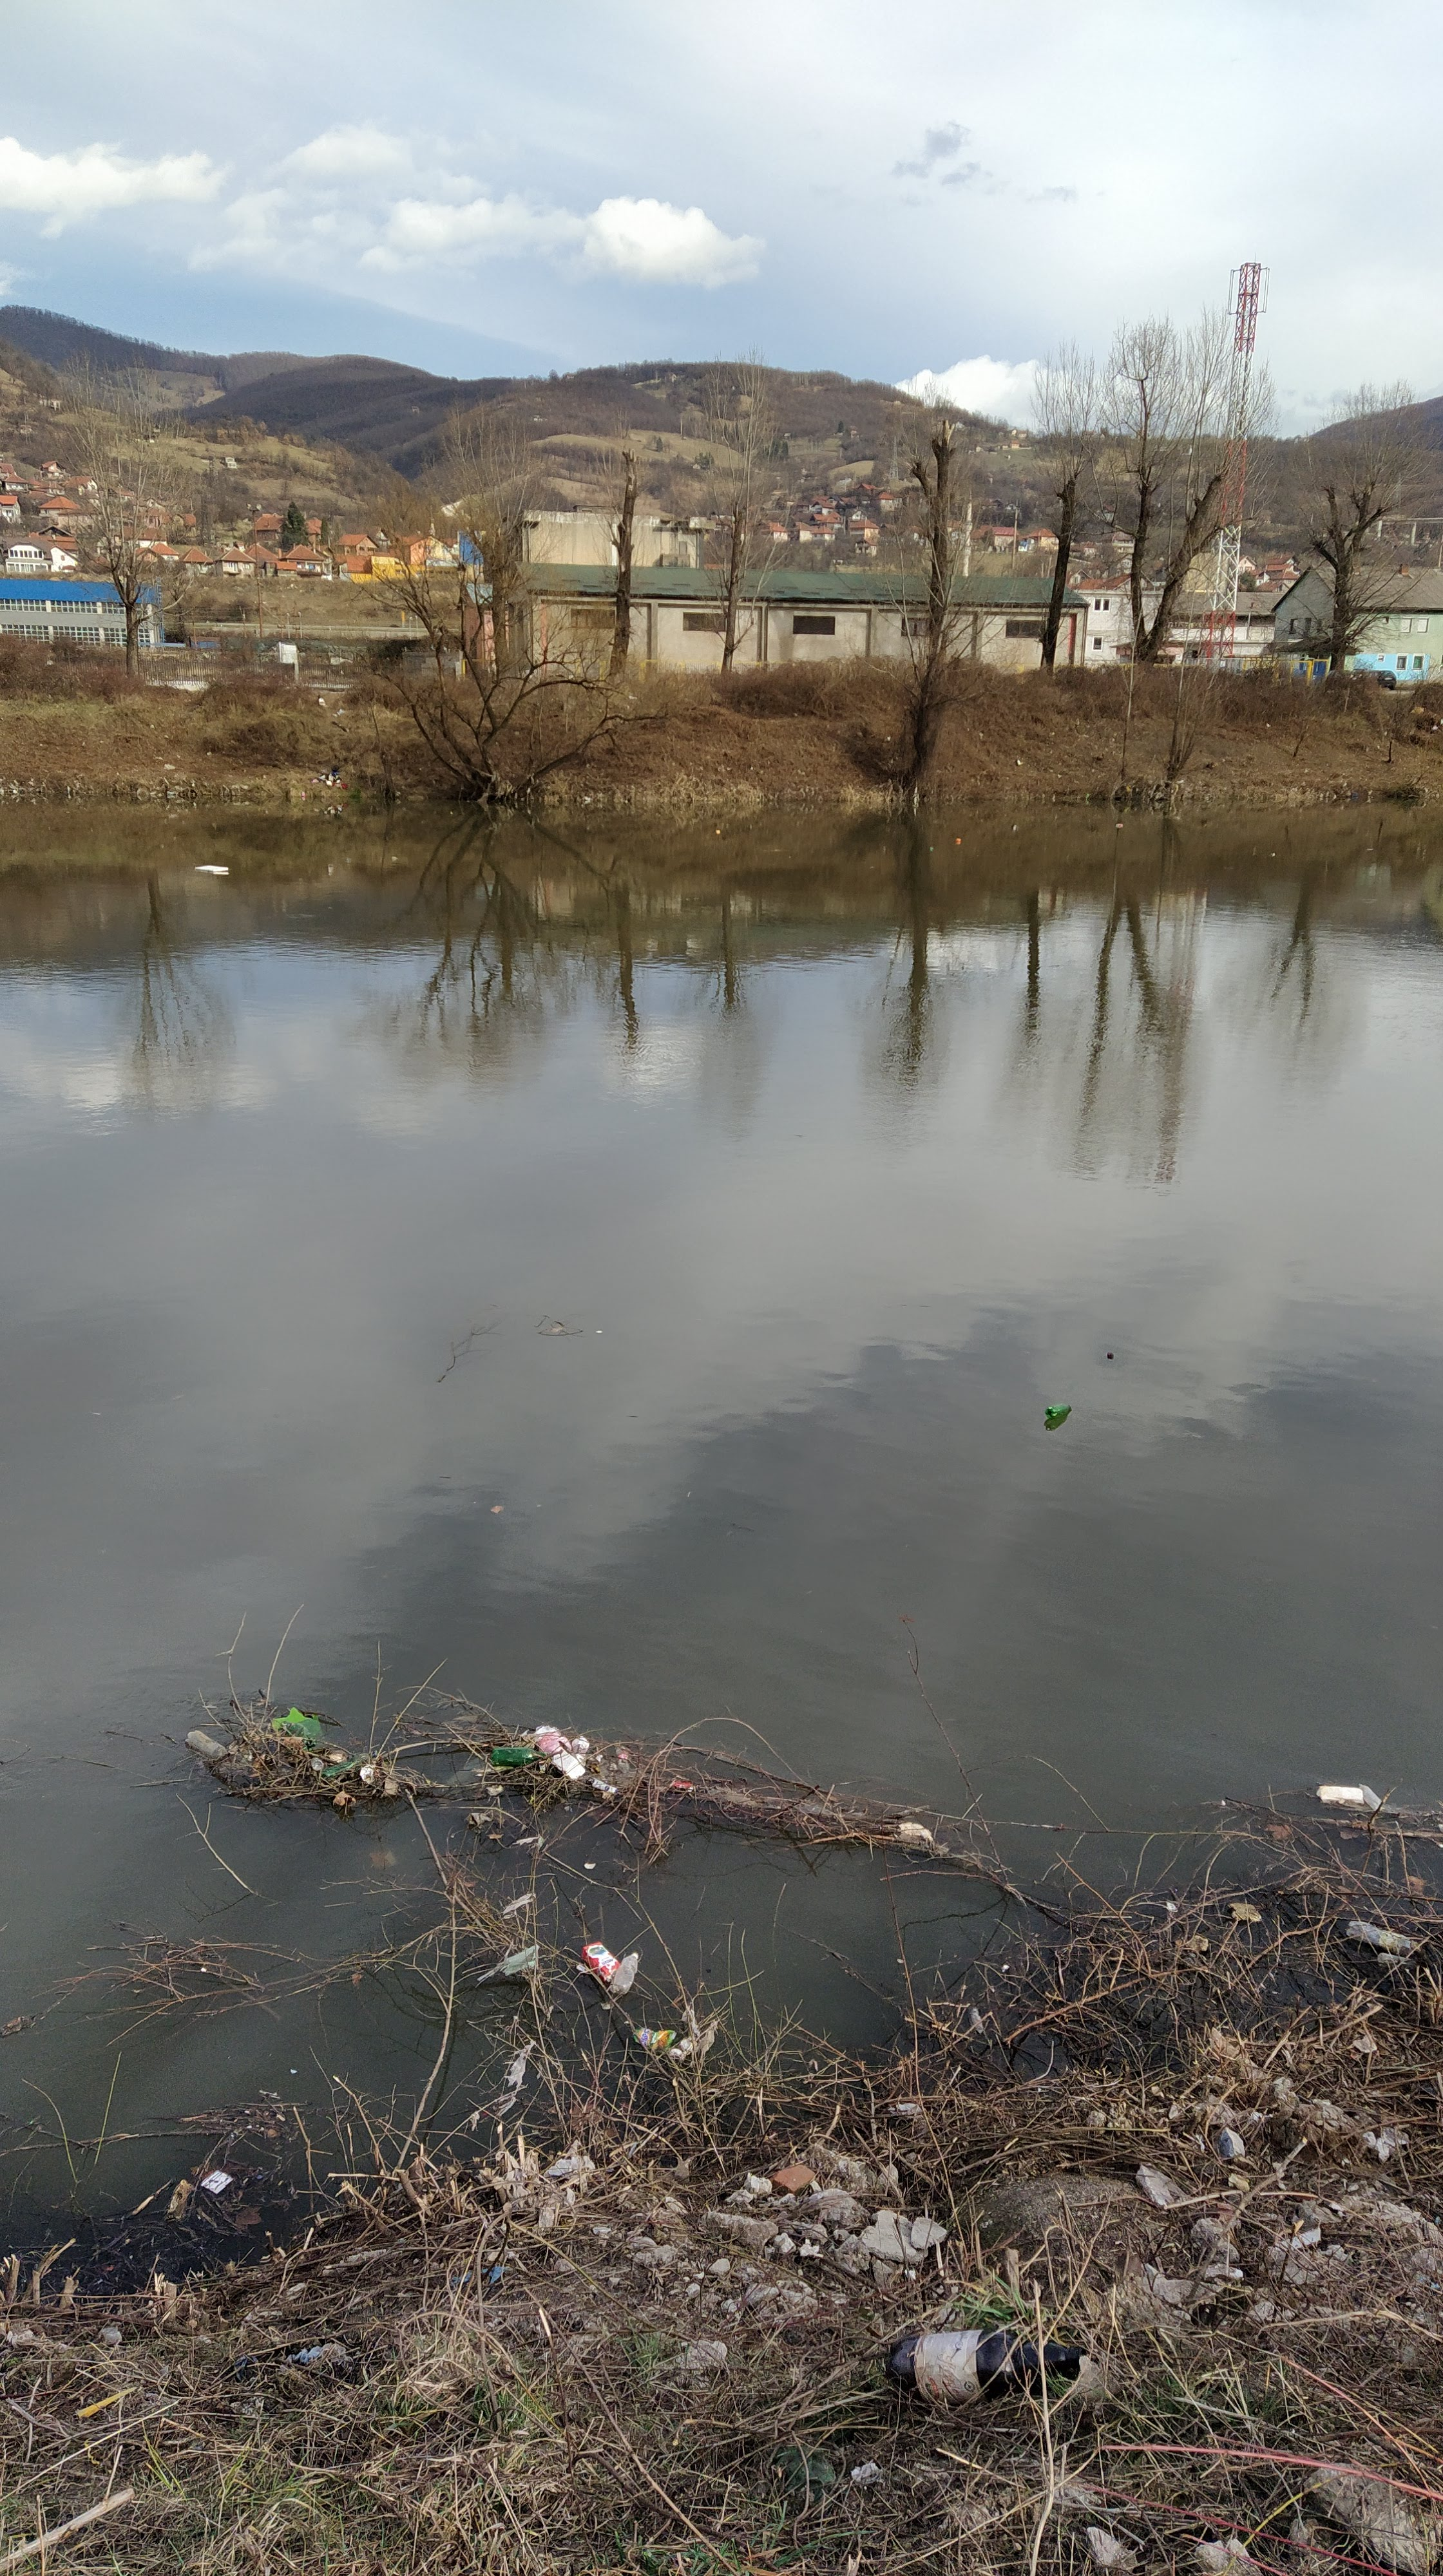Plastic Bottle: (1347, 1920, 1413, 1951), (186, 1730, 228, 1759), (320, 1752, 368, 1776), (611, 1953, 639, 1994), (490, 1746, 549, 1766), (283, 1721, 315, 1746), (634, 2028, 675, 2045), (1377, 1951, 1416, 1969), (1358, 1783, 1381, 1812), (614, 1746, 630, 1773), (1045, 1405, 1071, 1417), (312, 1759, 322, 1769), (1115, 823, 1121, 826), (930, 846, 931, 849)
